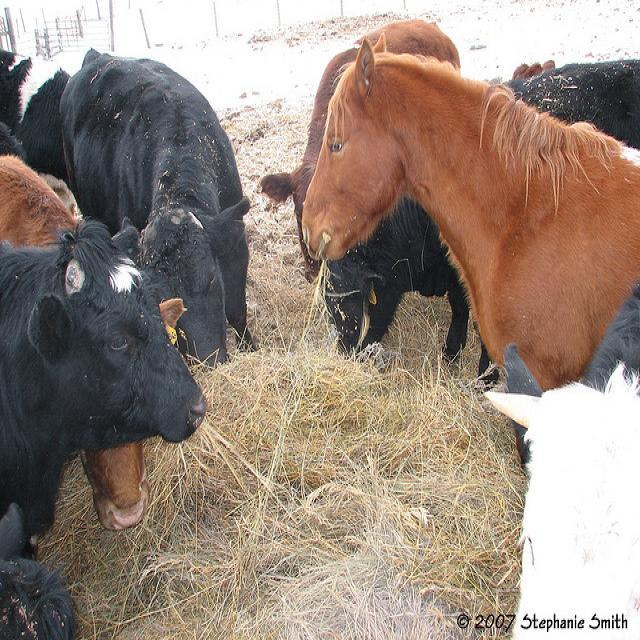cow: (0, 217, 209, 559), (57, 30, 267, 362), (0, 153, 179, 531), (258, 16, 458, 280), (321, 195, 470, 357), (505, 57, 639, 151), (0, 41, 65, 175)
